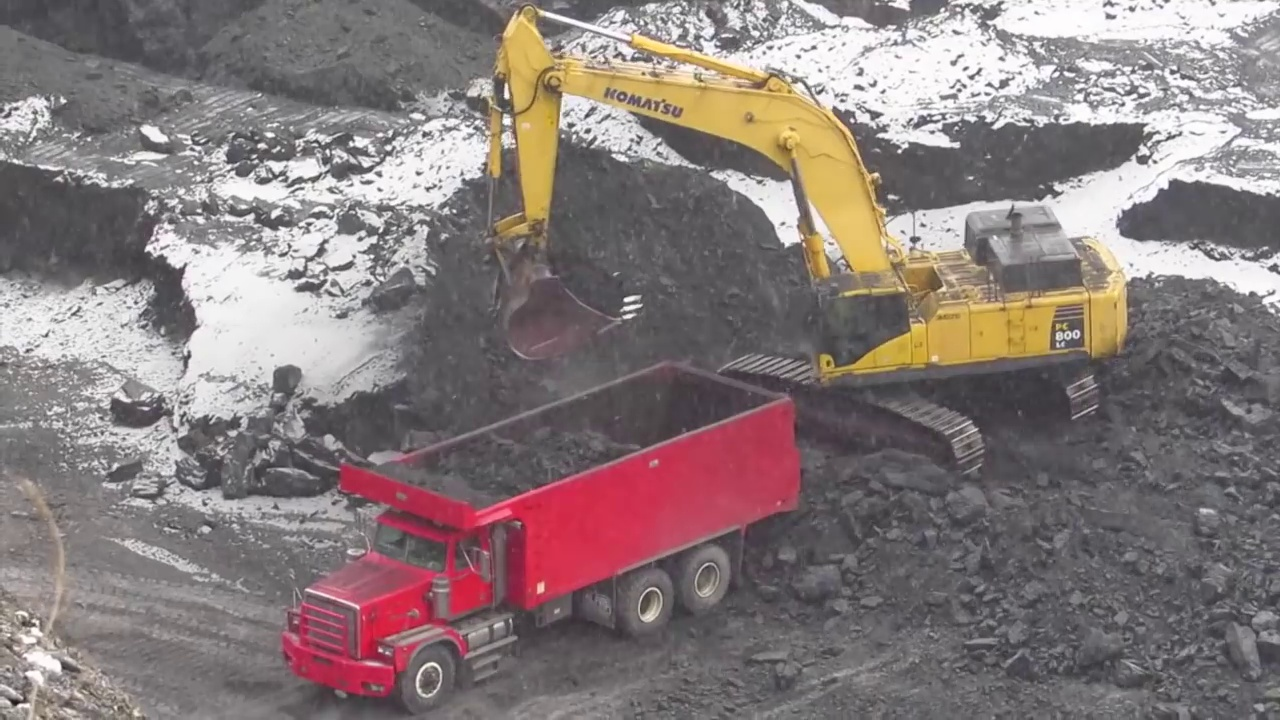excavator: (480, 3, 1130, 475)
truck: (280, 360, 804, 715)
